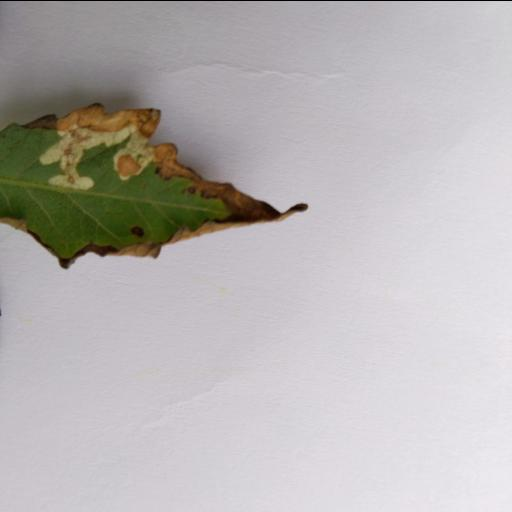Leaf Miner: (0, 102, 280, 270)
